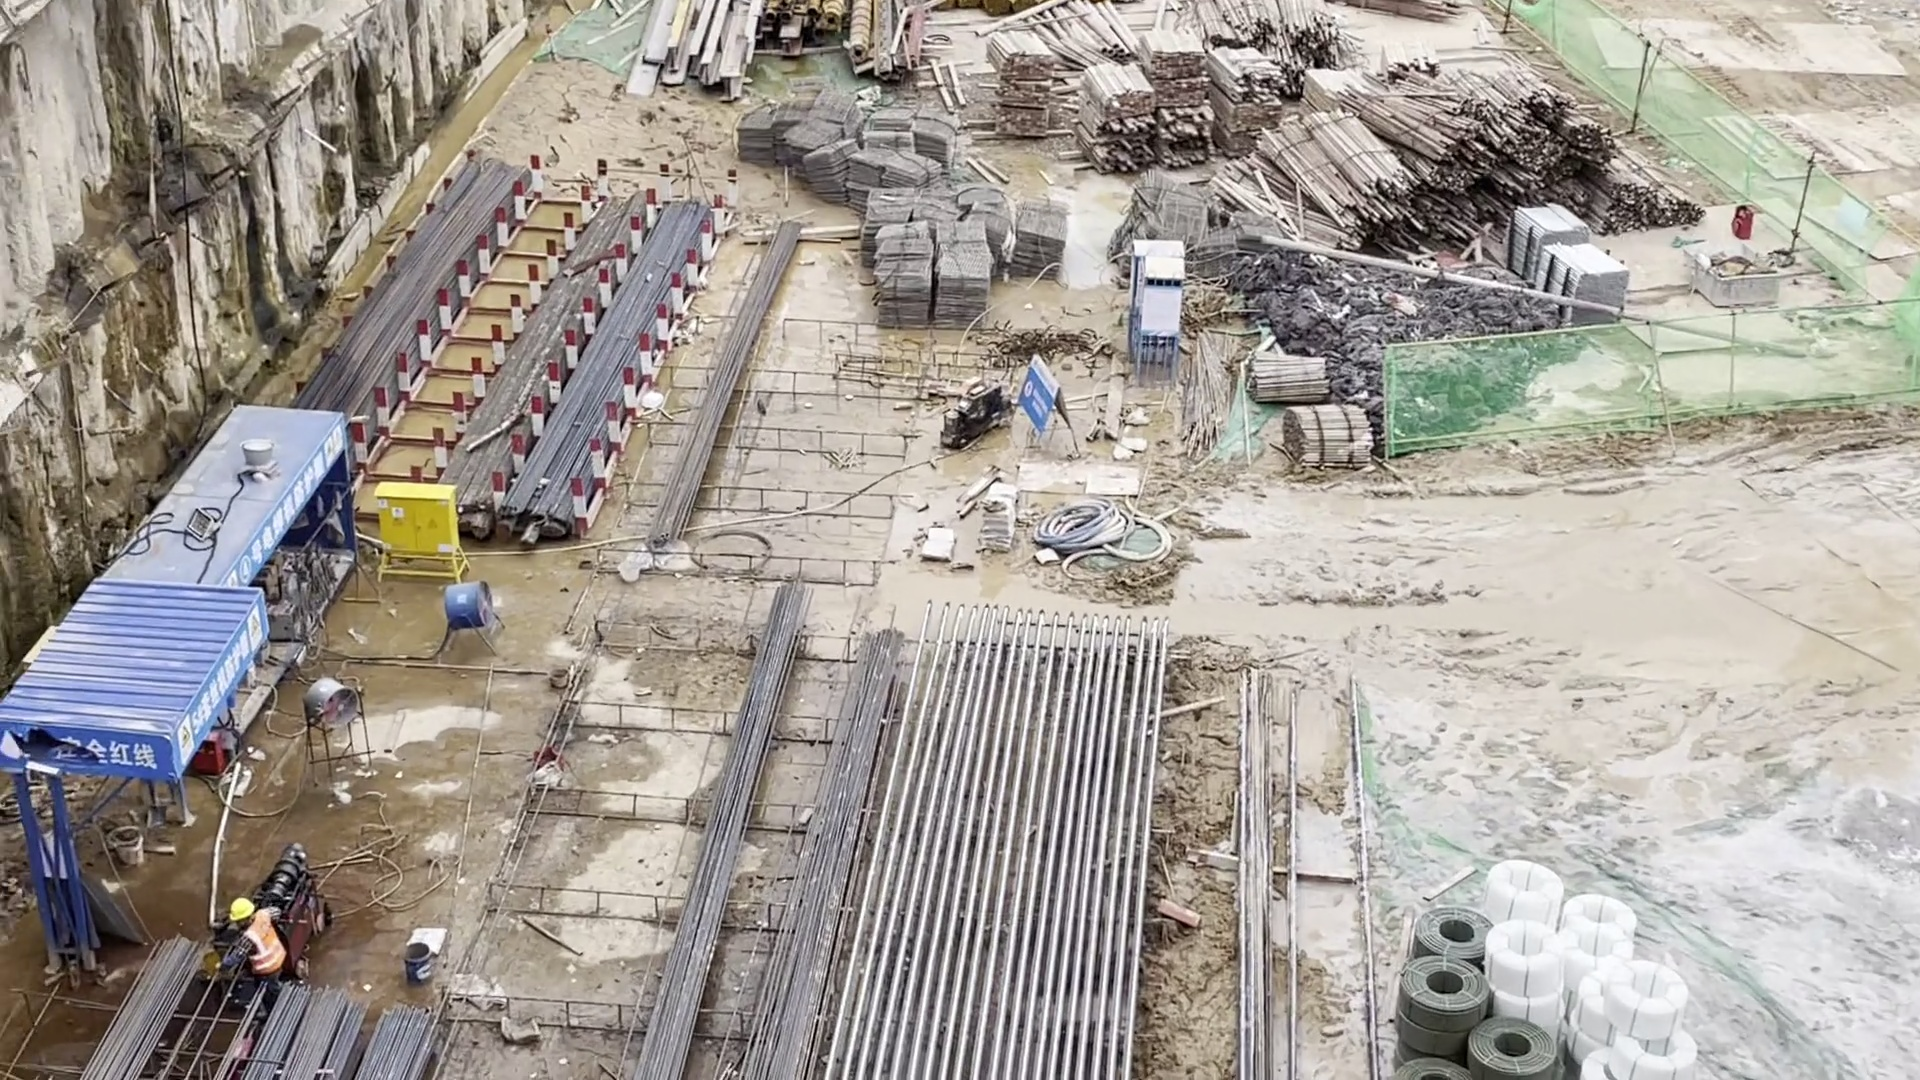brick: (1503, 209, 1620, 326)
ebox: (371, 476, 465, 584)
helmet: (227, 892, 256, 928)
hopper: (1682, 240, 1781, 307)
person: (213, 883, 289, 985)
rebar: (682, 607, 885, 1080), (462, 191, 711, 521), (651, 215, 814, 543), (314, 154, 506, 401), (143, 1003, 429, 1080)
slogan: (169, 621, 273, 757), (242, 432, 339, 579), (13, 719, 166, 791)
vest: (243, 919, 284, 987)
wood: (1258, 65, 1706, 241), (961, 23, 1290, 153)
